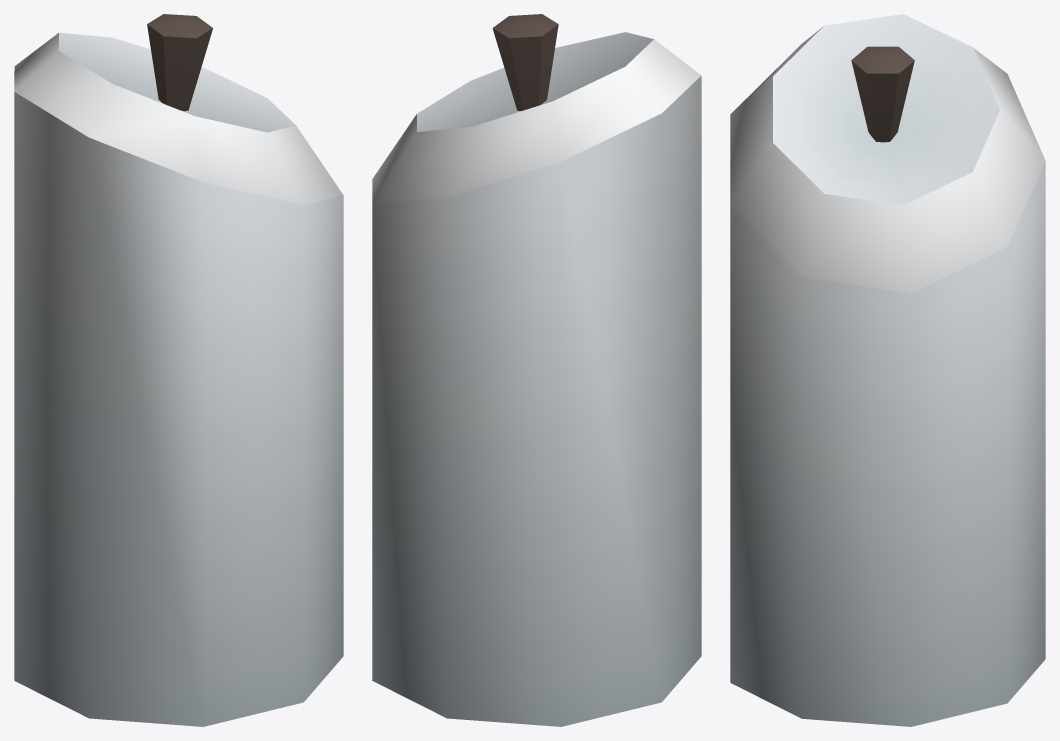
Rendered from d_kaykit_bougie_fondue.glb.
3 renders of one model, left to right at view 1: azimuth 30°, elevation 25°; view 2: azimuth 150°, elevation 25°; view 3: azimuth 270°, elevation 25°, orthographic. The views are drawn at different scales.
Parts seen in each view (by area): view 1: d_kaykit_bougie_fondue; view 2: d_kaykit_bougie_fondue; view 3: d_kaykit_bougie_fondue.
Part boxes in pixels (x1,y1,x2,y2): d_kaykit_bougie_fondue: (14, 14, 343, 726); d_kaykit_bougie_fondue: (372, 14, 701, 726); d_kaykit_bougie_fondue: (730, 14, 1045, 726).
Bounding box in the file's own units: 0.3009 × 0.6314 × 0.2964.
Materials: 1 (1 with a texture image).
